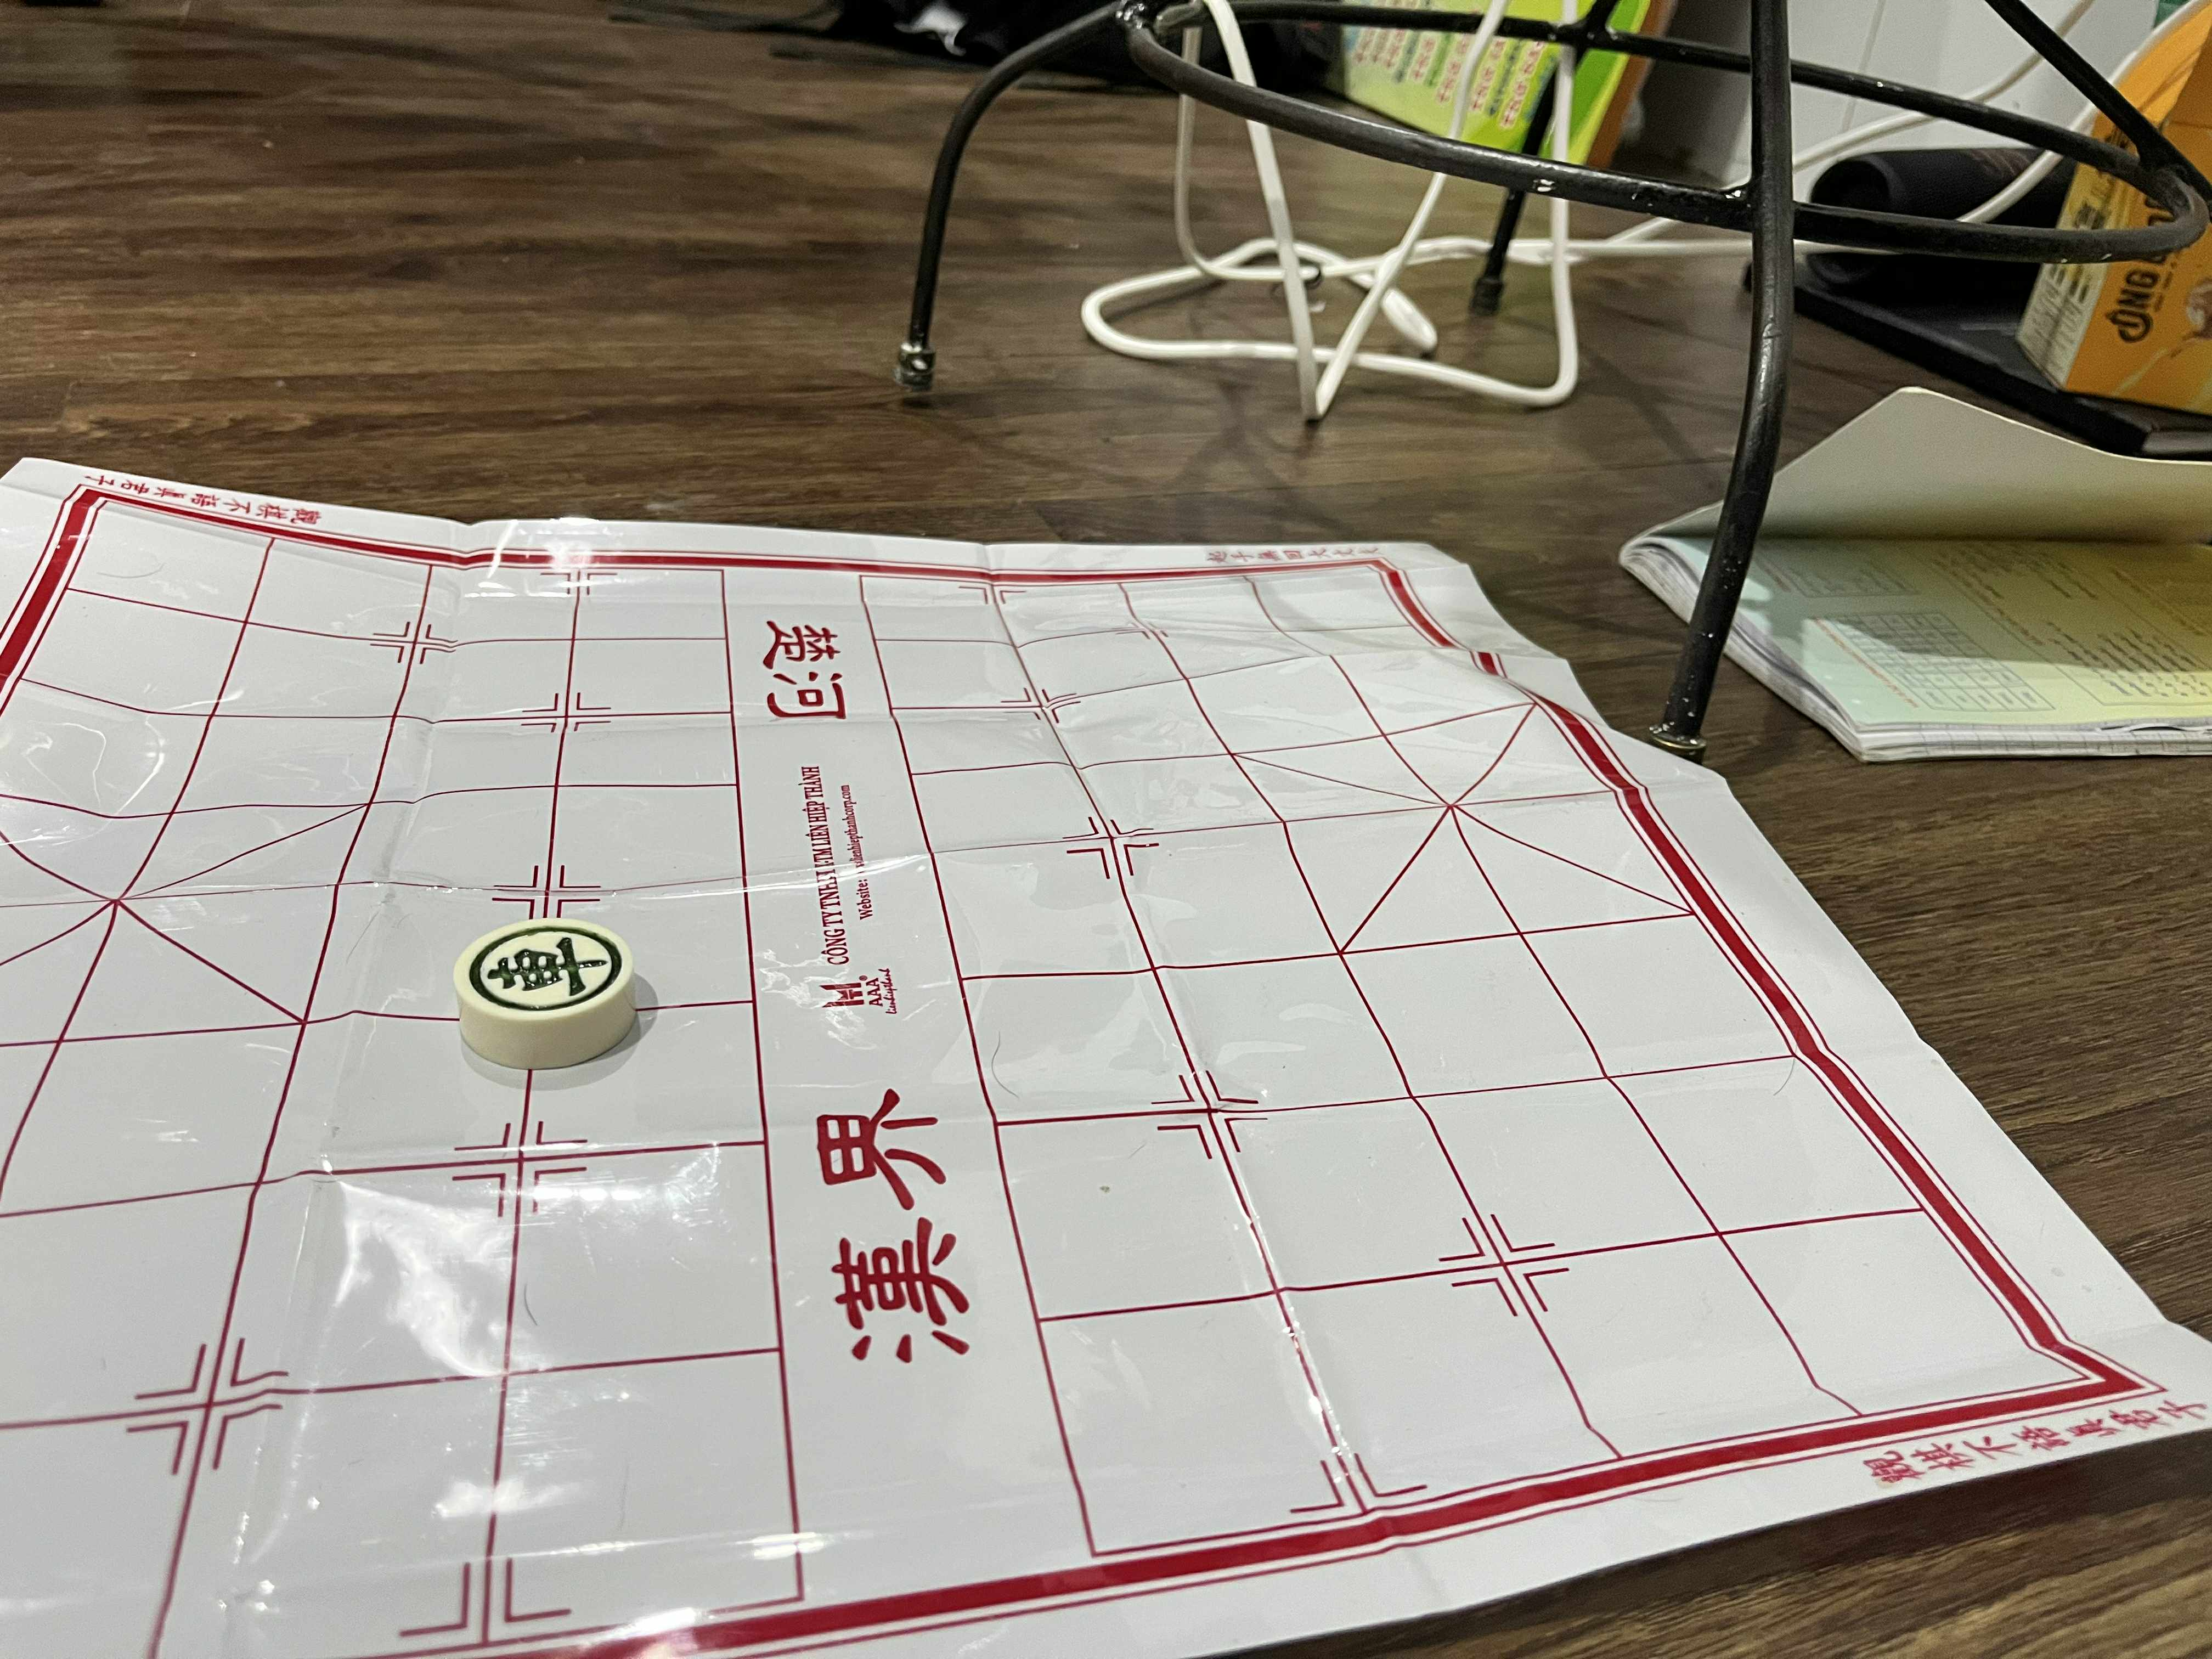black-chariot: (453, 918, 635, 1025)
